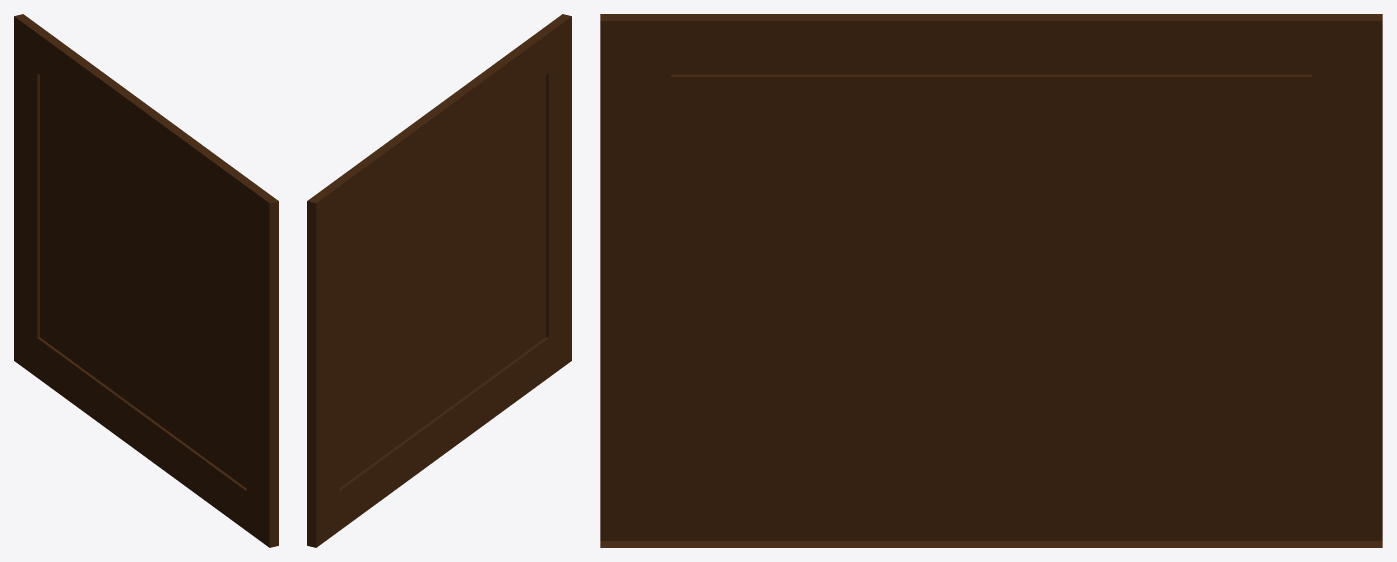
File: HQ_Painting.fbx
The picture shows the model from 3 angles, left to right: view 1: azimuth 30°, elevation 25°; view 2: azimuth 150°, elevation 25°; view 3: azimuth 270°, elevation 25°; orthographic projection. The views are drawn at different scales.
Visible parts, largest first — view 1: HQ_Painting; view 2: HQ_Painting; view 3: HQ_Painting.
Part boxes in pixels (x1,y1,x2,y2): HQ_Painting: (14,14,278,547); HQ_Painting: (307,14,571,547); HQ_Painting: (600,14,1382,547).
Size of the model in its own units: 0.1658 by 5.91 by 7.95.
